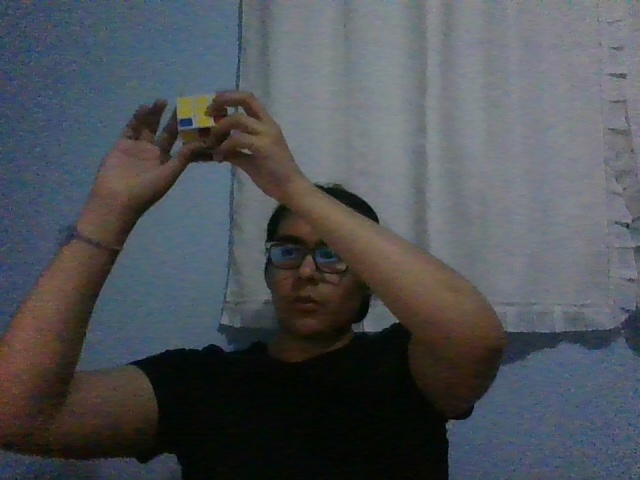rubik: (176, 93, 232, 163)
